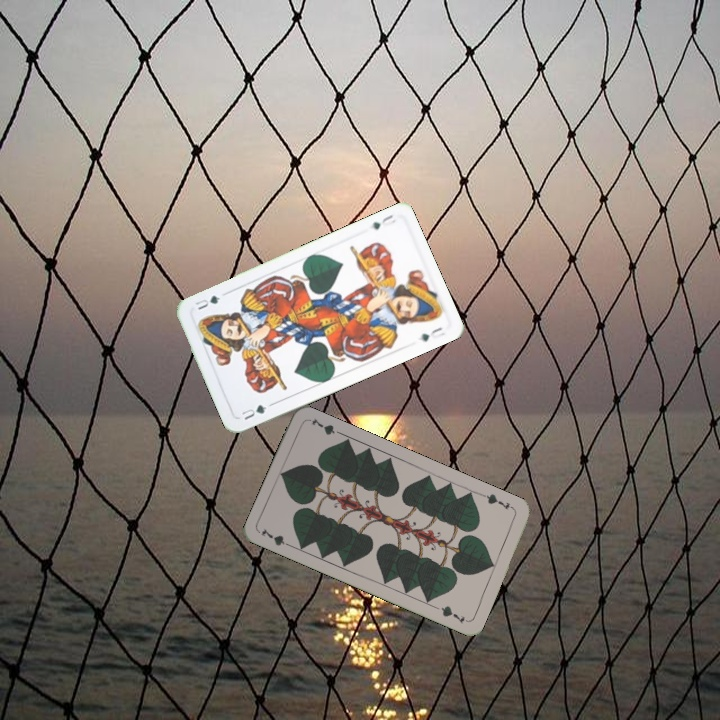G7: (257, 524, 295, 550), (479, 490, 517, 513)
GU: (237, 400, 269, 423), (368, 210, 398, 232)
